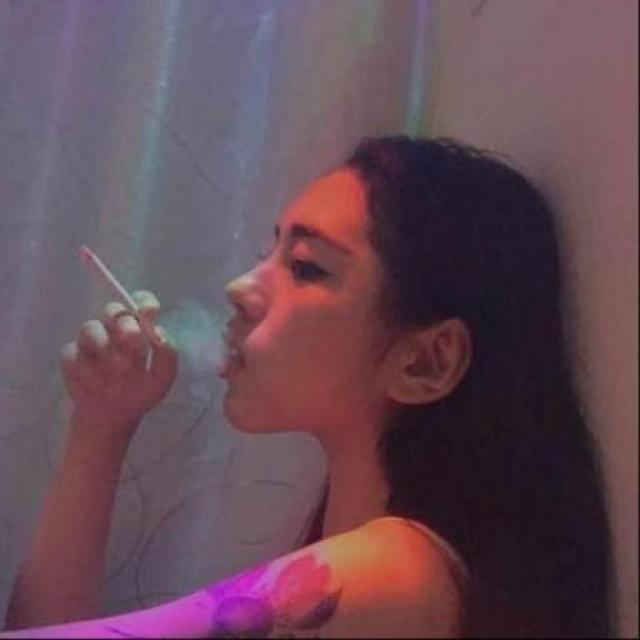rokok: (75, 242, 169, 356)
